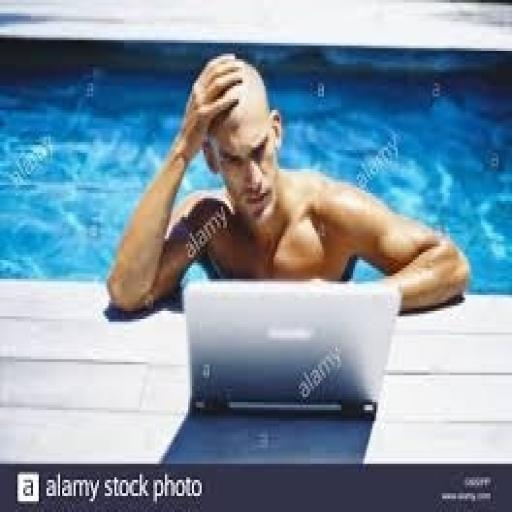using_laptop: (180, 276, 402, 421)
